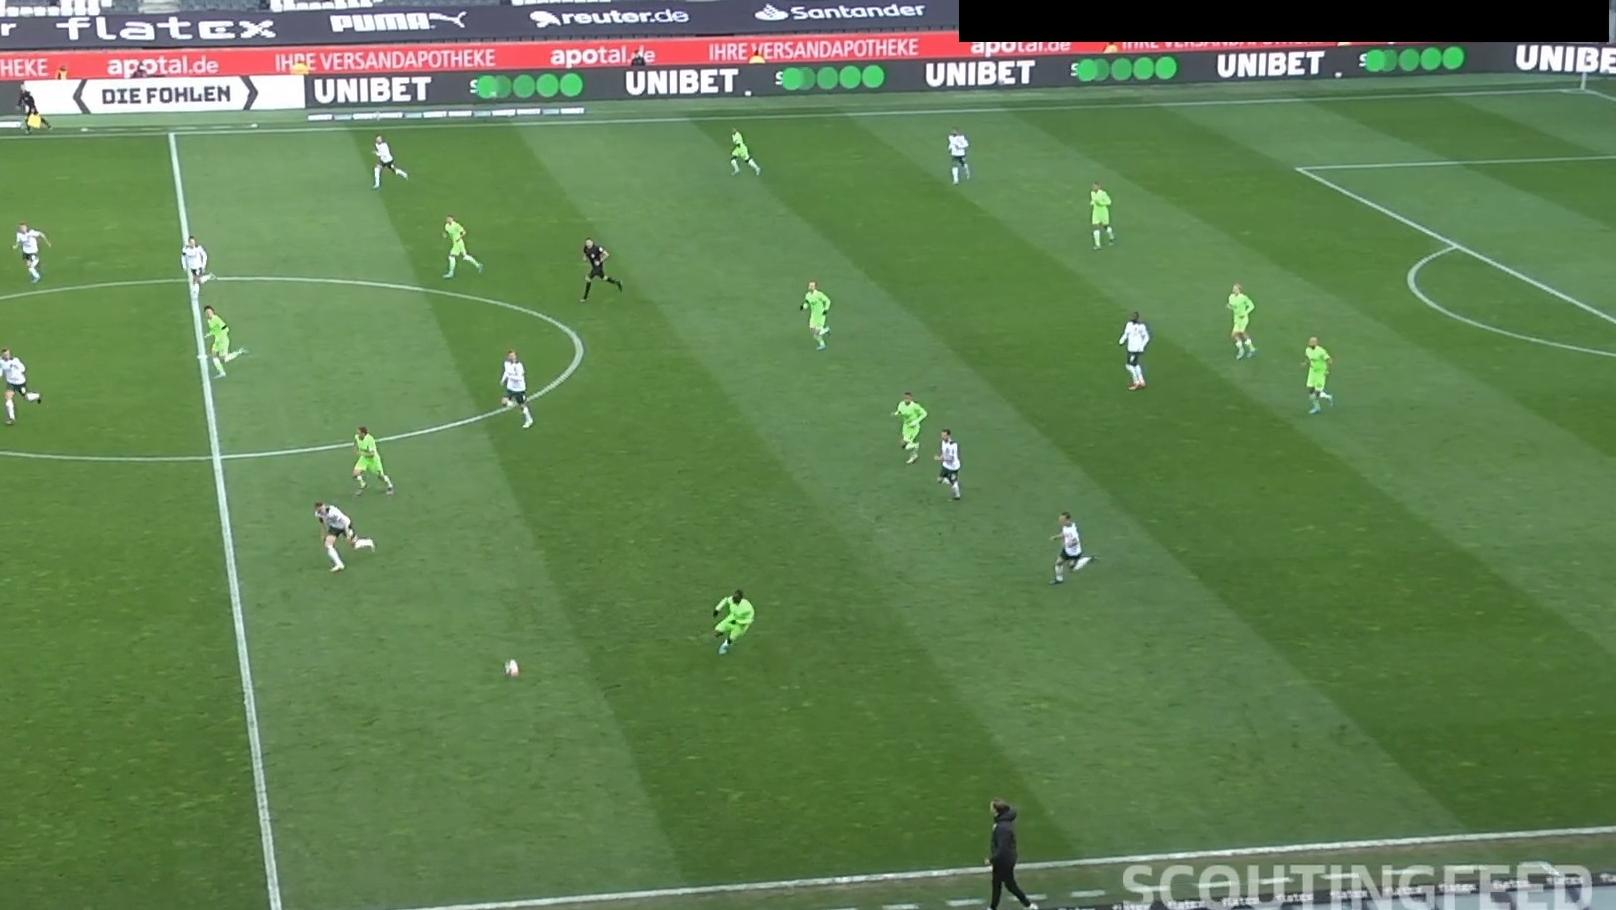ball: (501, 658, 521, 678)
